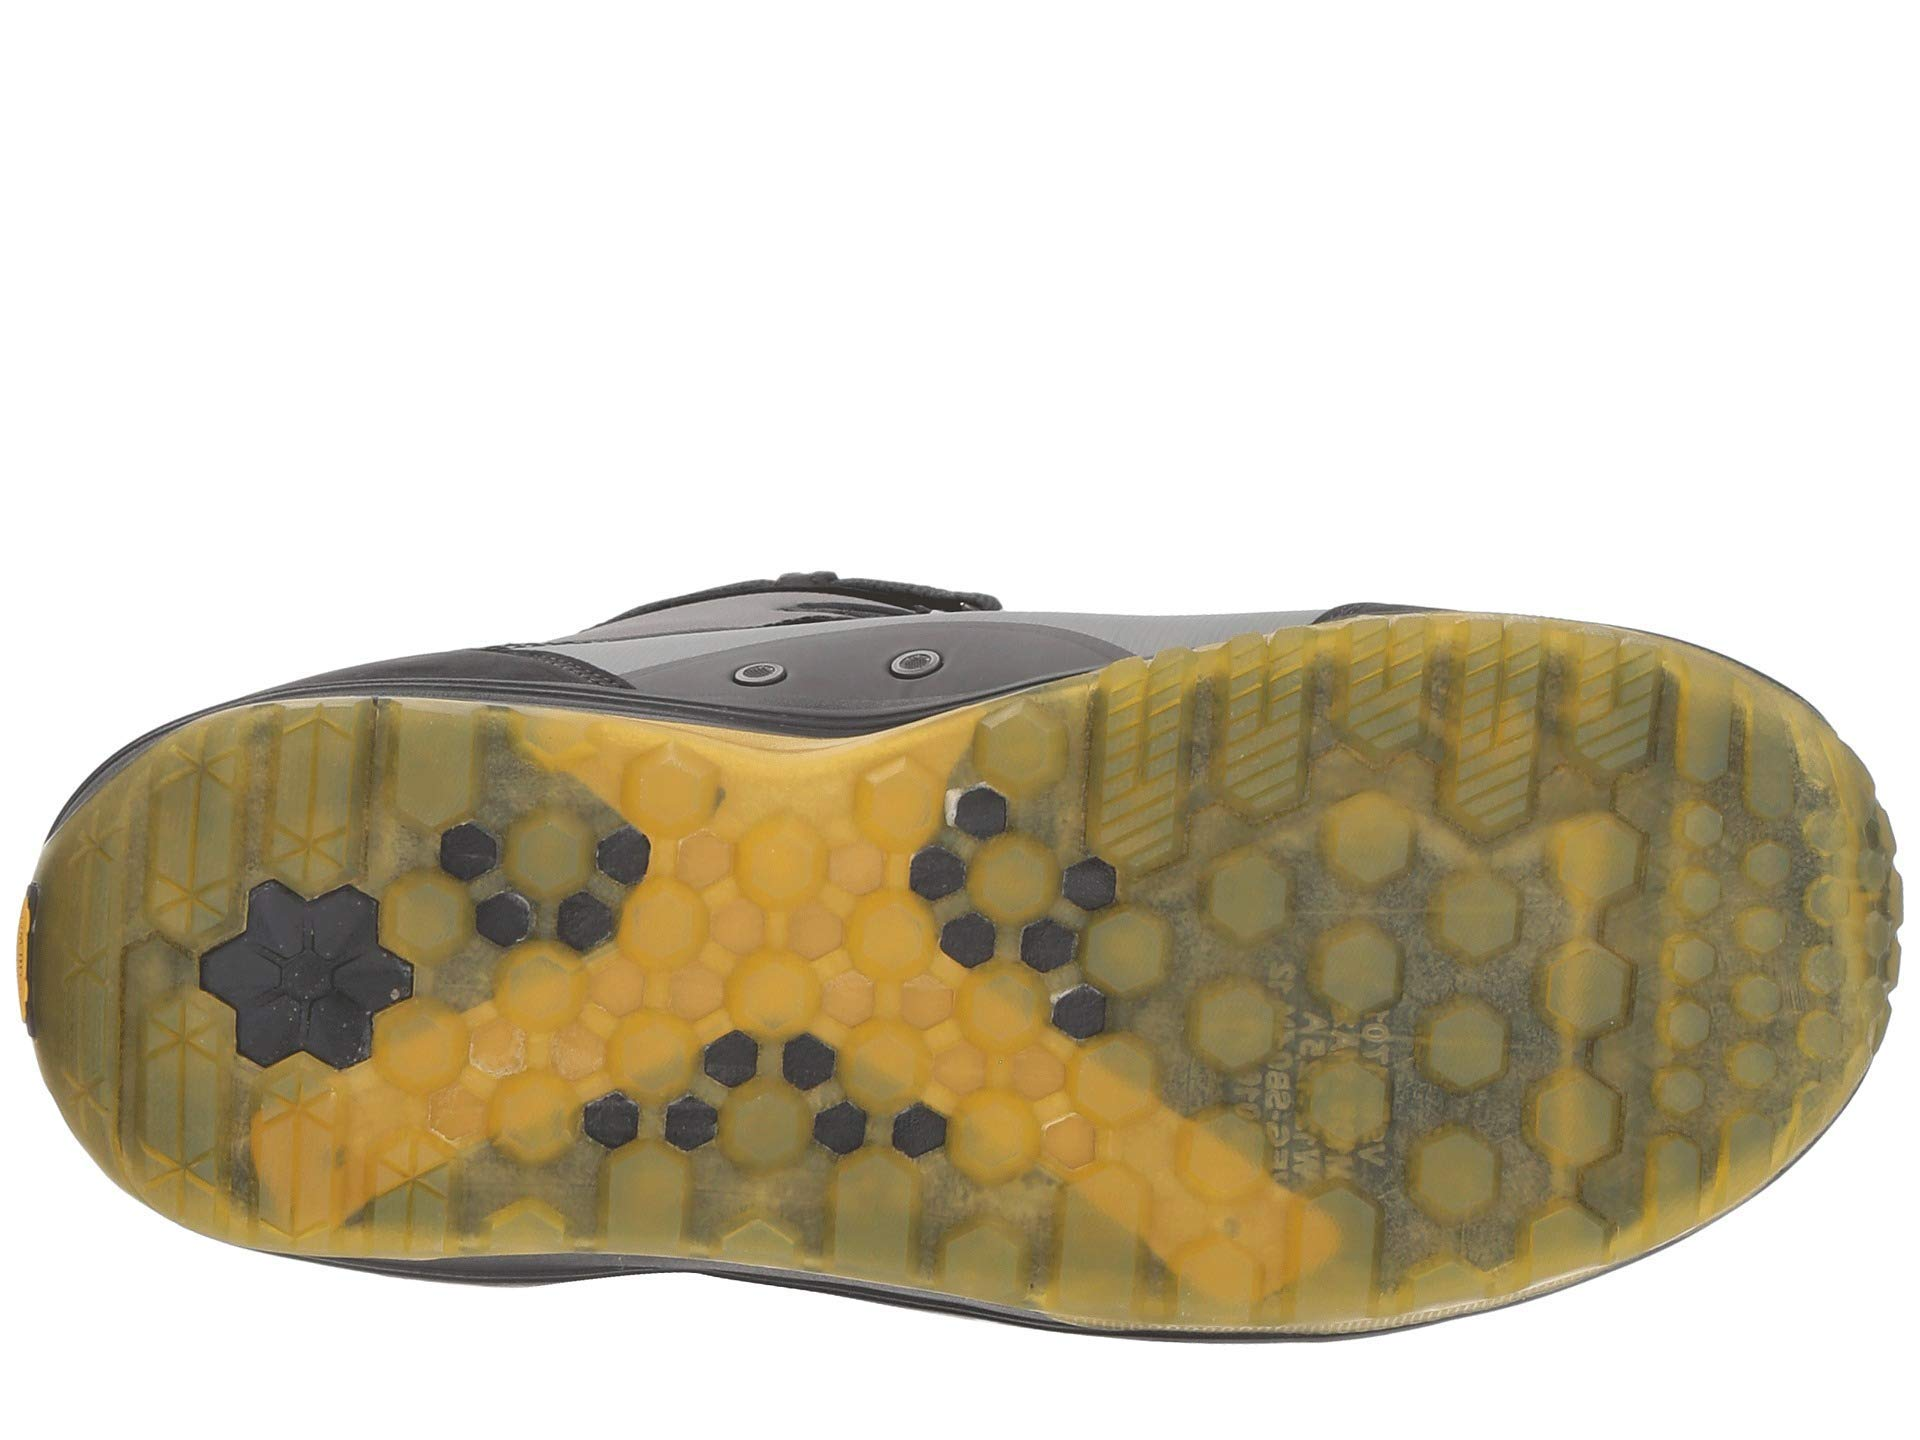polygon: (679, 762, 1637, 1257), (124, 770, 609, 1234)
text: (679, 762, 1637, 1257)
triangle: (124, 770, 609, 1234)
